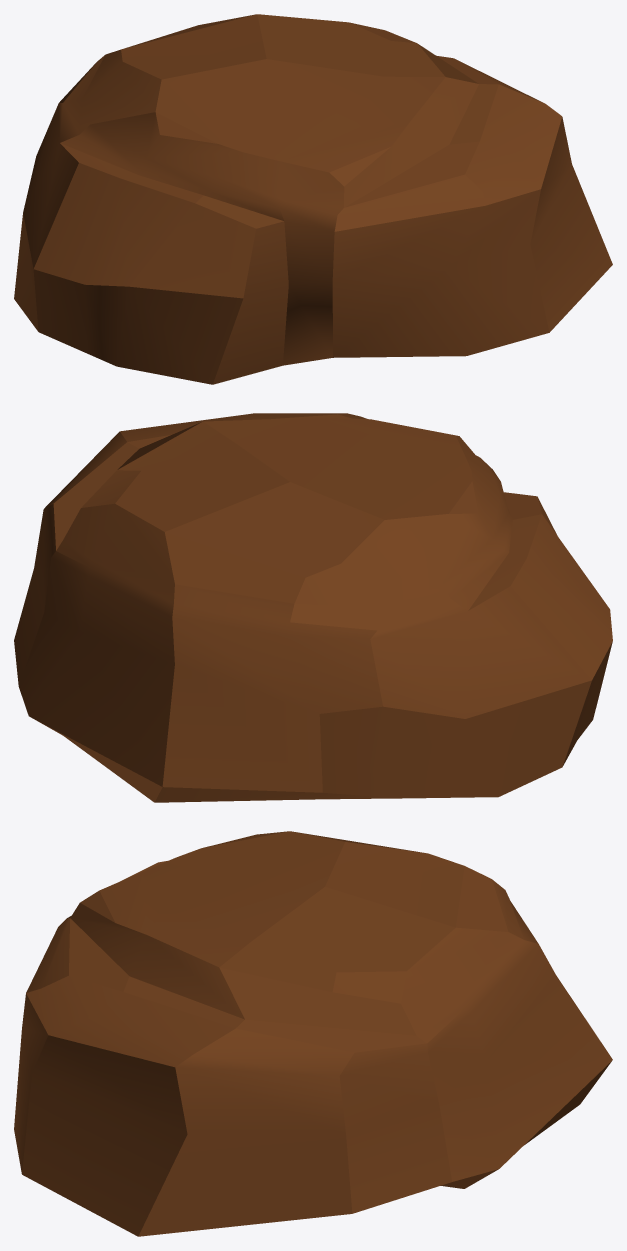
Rendered from rock-large-1.glb.
3 renders of one model, top to bottom at view 1: azimuth 30°, elevation 25°; view 2: azimuth 150°, elevation 25°; view 3: azimuth 270°, elevation 25°, orthographic. The views are drawn at different scales.
Visible parts, largest first — view 1: Rock_Large_1; view 2: Rock_Large_1; view 3: Rock_Large_1.
Part boxes in pixels (x1,y1,x2,y2): Rock_Large_1: (14,14,612,384); Rock_Large_1: (14,413,612,802); Rock_Large_1: (14,831,612,1236).
Size of the model in its own units: 7.67 by 3.29 by 7.33.
